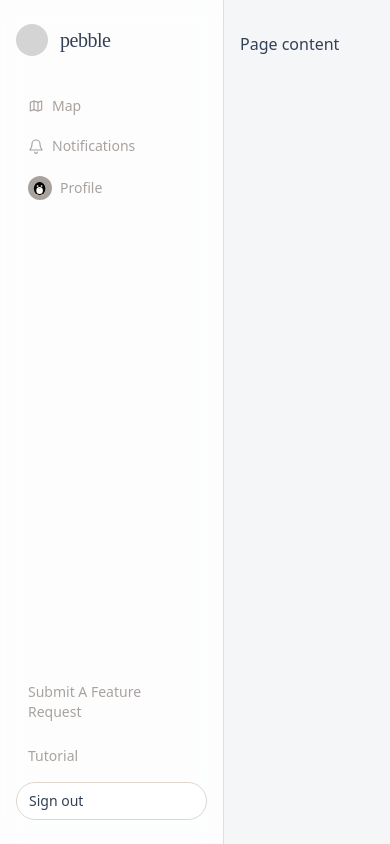
Test: ContentArea › puts Submit A Feature Request above Tutorial when the account can submit
Click the button "Submit A Feature Request": (112, 702) [16,674,207,730]
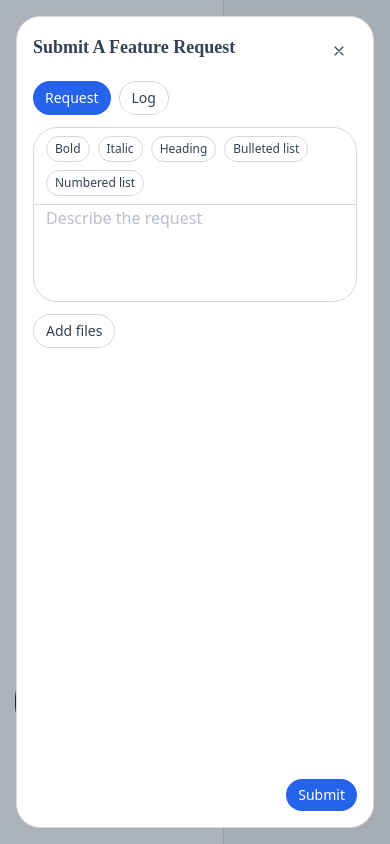
Now the element with test id "feature-request-modal" is shown
